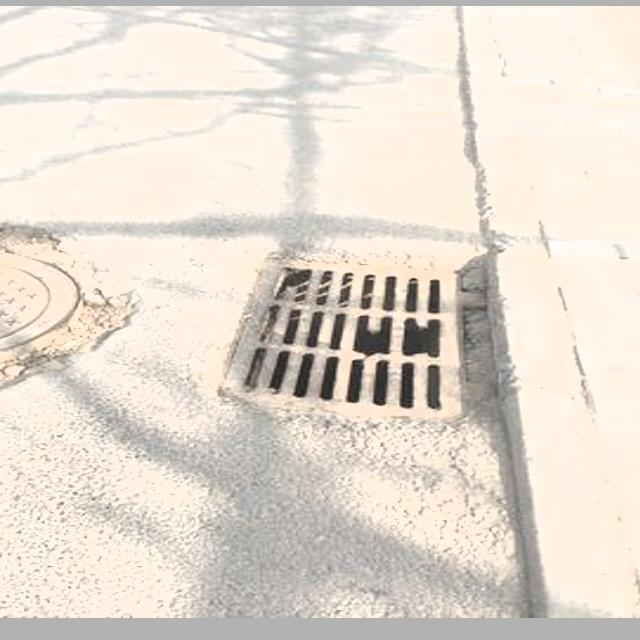circle: (0, 205, 148, 417)
